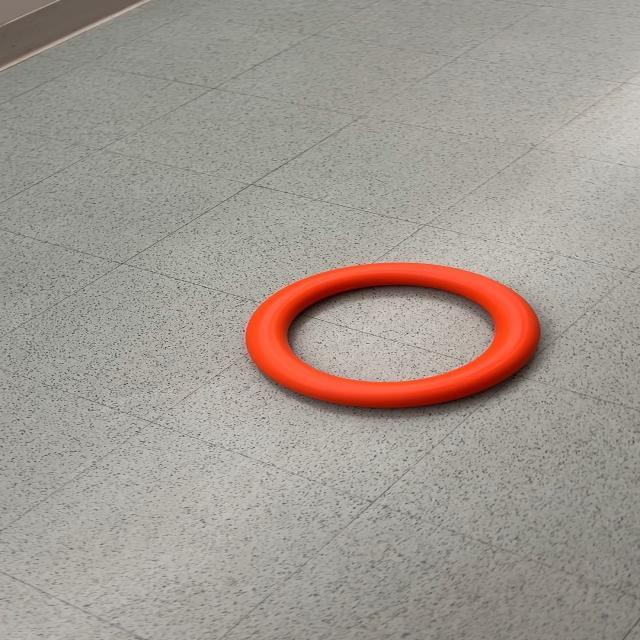note: (243, 261, 543, 409)
